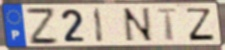2: (61, 8, 91, 44)
I: (92, 6, 105, 45)
N: (121, 7, 155, 44)
T: (155, 7, 180, 42)
Z: (24, 6, 61, 46), (185, 7, 217, 42)
